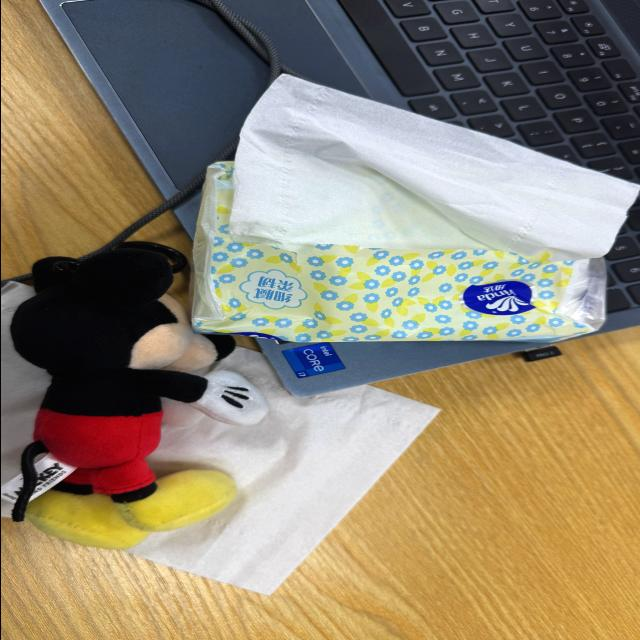mickey: (11, 249, 266, 548)
tissue: (127, 348, 438, 593), (229, 75, 638, 261), (192, 163, 604, 342)
